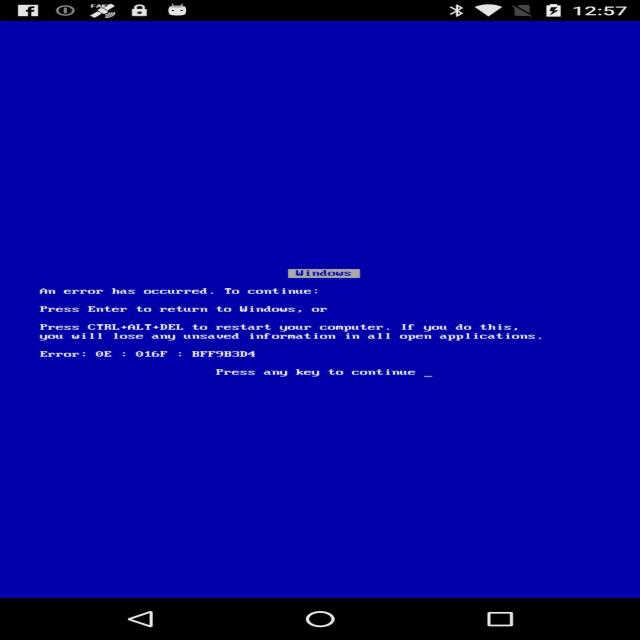text: (31, 320, 546, 343), (30, 304, 340, 318), (206, 366, 442, 380), (35, 286, 324, 297), (35, 349, 261, 360), (293, 269, 358, 279)
